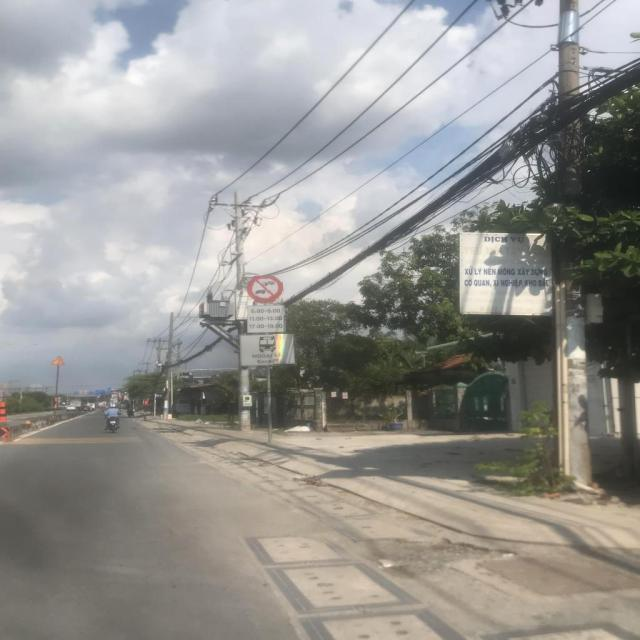cam_o_to_tai_va_xe_khach: (248, 276, 284, 302)
khac: (239, 334, 295, 366), (247, 305, 286, 333), (51, 356, 67, 365)
